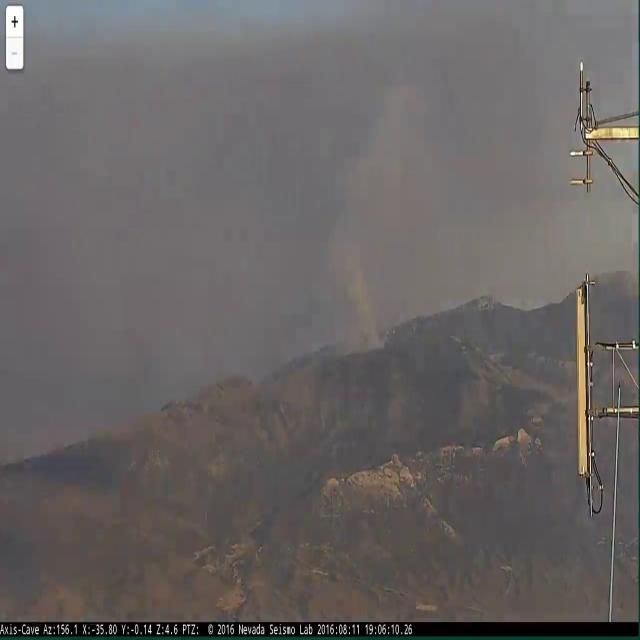smoke: (328, 60, 432, 363)
